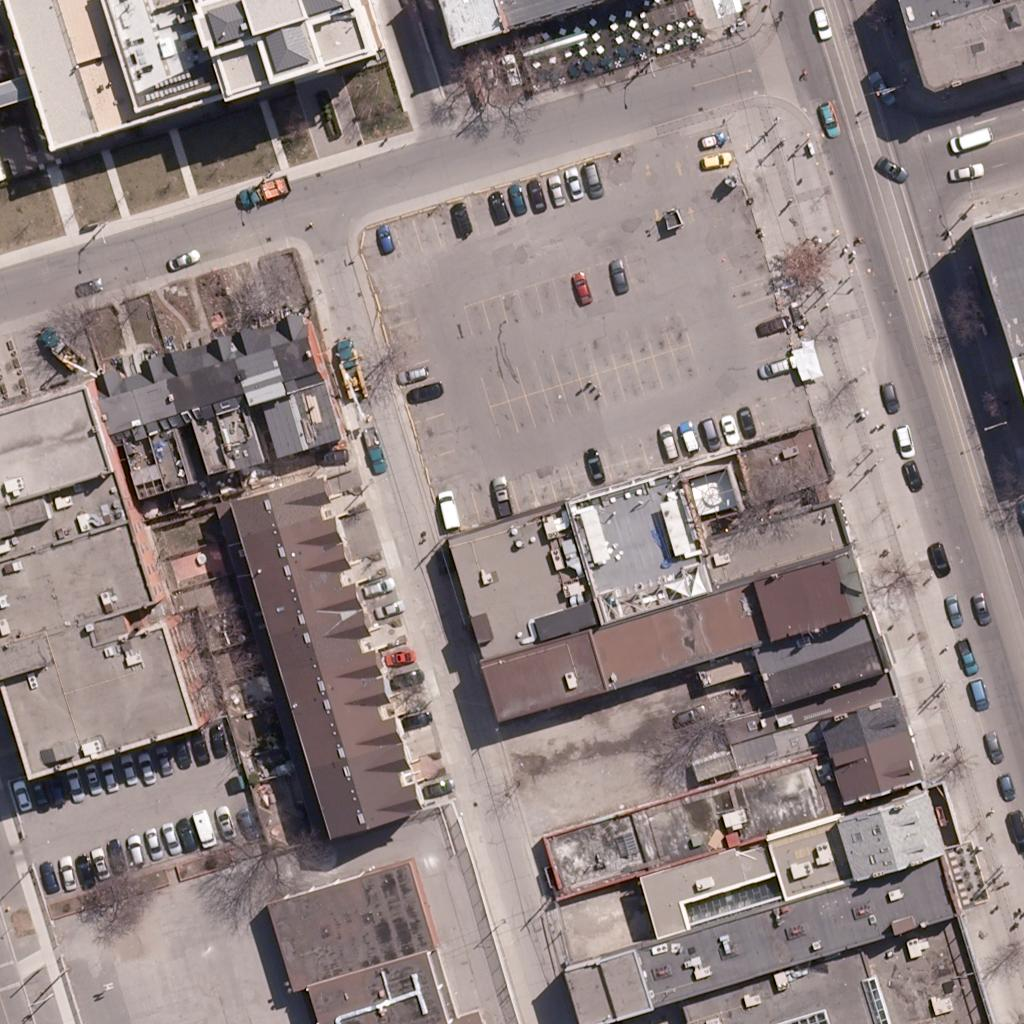car: (803, 5, 837, 39), (492, 52, 526, 86), (471, 53, 505, 87), (861, 67, 895, 101), (811, 103, 845, 137), (694, 122, 728, 156), (945, 123, 979, 157), (698, 143, 732, 177), (874, 151, 908, 185), (951, 154, 985, 188), (576, 163, 610, 197), (555, 164, 589, 198), (537, 172, 571, 206), (516, 176, 550, 210), (239, 178, 273, 212), (496, 178, 530, 212), (479, 187, 513, 221), (444, 198, 478, 232), (367, 220, 401, 254), (164, 242, 198, 276), (601, 260, 635, 294), (71, 269, 105, 303), (564, 271, 598, 305), (758, 306, 792, 340), (37, 325, 71, 359), (758, 349, 792, 383), (393, 356, 427, 390), (405, 373, 439, 407), (869, 375, 903, 409), (727, 401, 761, 435), (711, 409, 745, 443), (693, 415, 727, 449), (670, 419, 704, 453), (885, 423, 919, 457), (650, 425, 684, 459), (357, 435, 391, 469), (315, 438, 349, 472), (577, 448, 611, 482), (893, 456, 927, 490), (484, 477, 518, 511), (429, 488, 463, 522), (921, 539, 955, 573), (360, 570, 394, 604), (963, 590, 997, 624), (935, 591, 969, 625), (370, 592, 404, 626), (381, 641, 415, 675), (951, 641, 985, 675), (389, 660, 423, 694), (960, 675, 994, 709), (671, 696, 705, 730), (395, 704, 429, 738), (199, 721, 233, 755), (179, 726, 213, 760), (974, 729, 1008, 763), (164, 733, 198, 767), (144, 742, 178, 776), (130, 751, 164, 785), (111, 753, 145, 787), (74, 757, 108, 791), (93, 761, 127, 795), (58, 764, 92, 798), (987, 766, 1021, 800), (416, 772, 450, 806), (42, 778, 76, 812), (26, 780, 60, 814), (5, 781, 39, 815), (230, 803, 264, 837), (207, 805, 241, 839), (188, 816, 222, 850), (168, 817, 202, 851), (153, 820, 187, 854), (135, 825, 169, 859), (117, 837, 151, 871), (102, 839, 136, 873), (82, 848, 116, 882), (65, 854, 99, 888), (50, 859, 84, 893), (31, 862, 65, 896), (1001, 815, 1024, 849)
